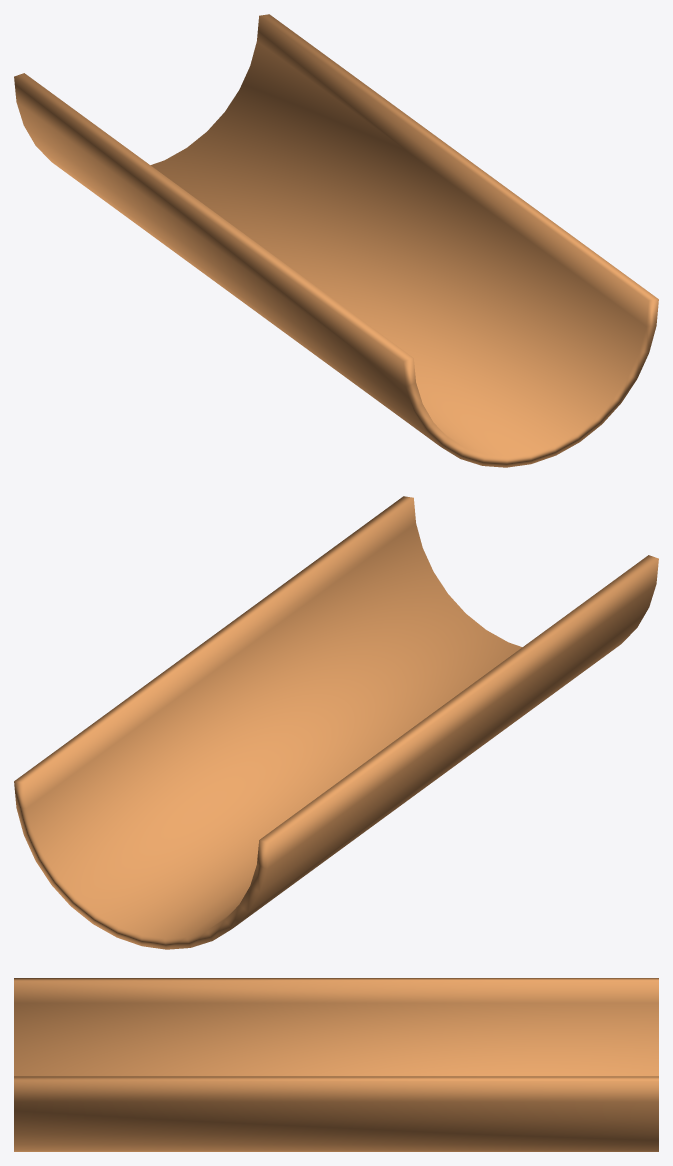
Rendered from WAY STR.fbx.
The picture shows the model from 3 angles, top to bottom: view 1: azimuth 30°, elevation 25°; view 2: azimuth 150°, elevation 25°; view 3: azimuth 270°, elevation 25°; orthographic projection. The views are drawn at different scales.
Visible parts, largest first — view 1: Sphere.007; view 2: Sphere.007; view 3: Sphere.007.
Part boxes in pixels (x1=…): Sphere.007: x1=14, y1=14, x2=658, y2=467; Sphere.007: x1=14, y1=496, x2=658, y2=949; Sphere.007: x1=14, y1=978, x2=658, y2=1151.
Size of the model in its own units: 944 by 476 by 2492.
